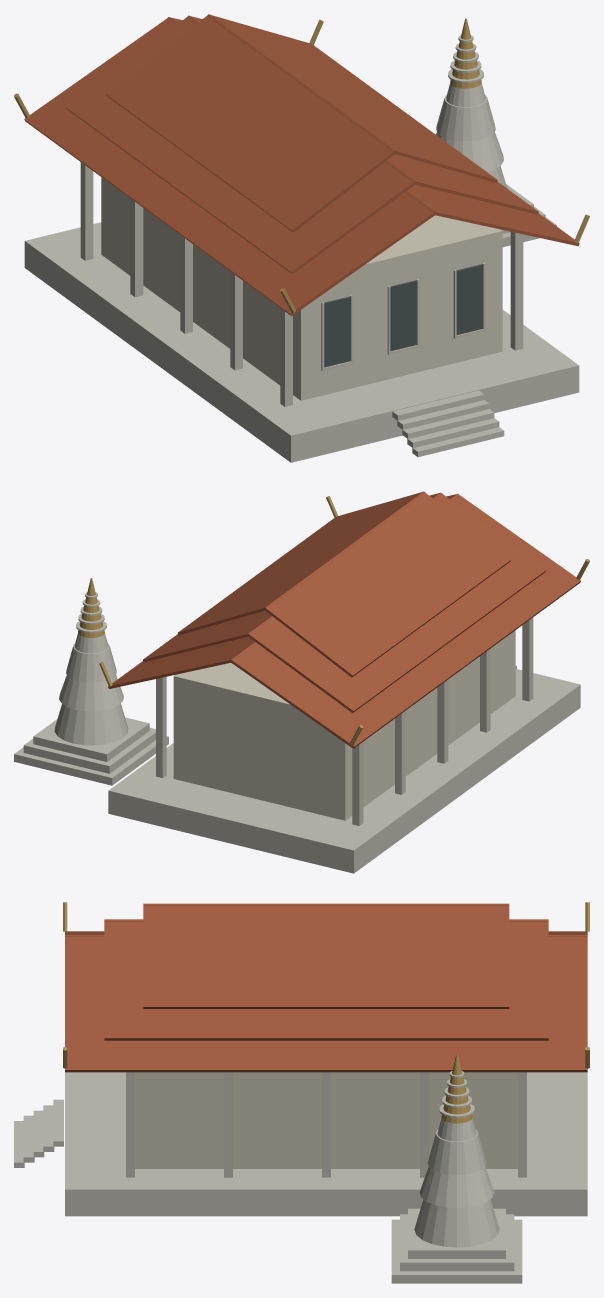
Rendered from thai_temple.glb.
The picture shows the model from 3 angles, top to bottom: view 1: azimuth 30°, elevation 25°; view 2: azimuth 150°, elevation 25°; view 3: azimuth 270°, elevation 25°; orthographic projection. The views are drawn at different scales.
Visible parts, largest first — view 1: thai_temple; view 2: thai_temple; view 3: thai_temple.
Boxes of the visible parts, x1,y1,x2,y2 form: thai_temple: (14,14,589,462); thai_temple: (14,491,589,873); thai_temple: (14,902,589,1283).
Bounding box in the file's own units: 15.37 × 8.22 × 17.63.
